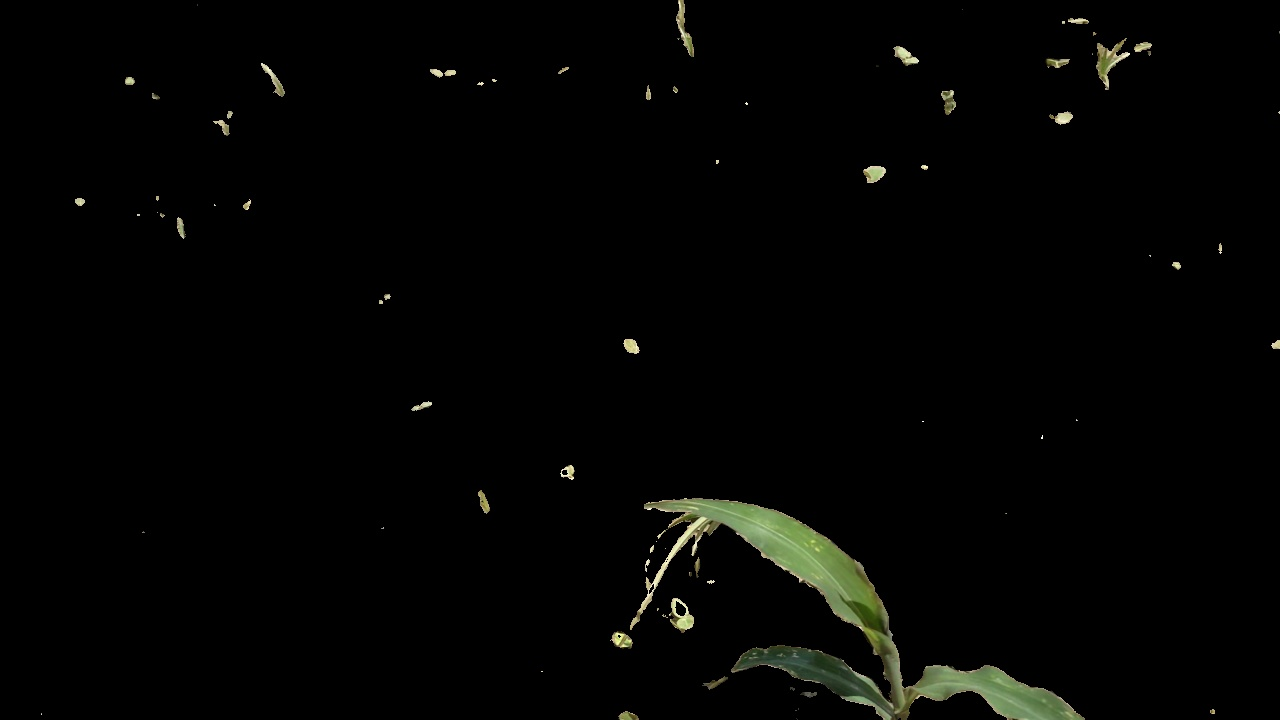crop: (636, 475, 1081, 720)
weed: (1052, 27, 1165, 114), (658, 589, 706, 635)
